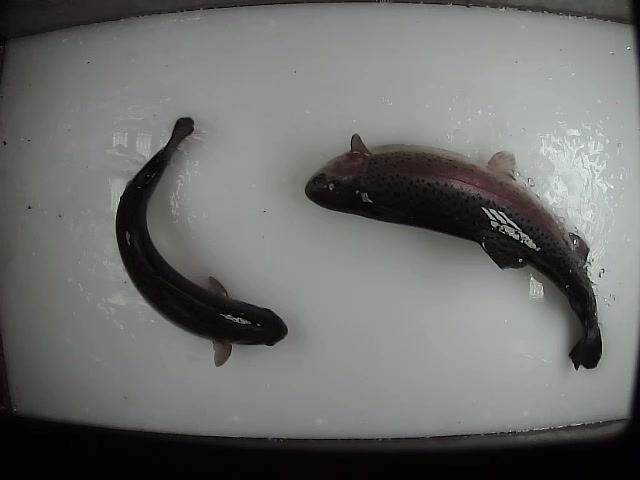Fish: (302, 132, 603, 371), (114, 116, 289, 367)
